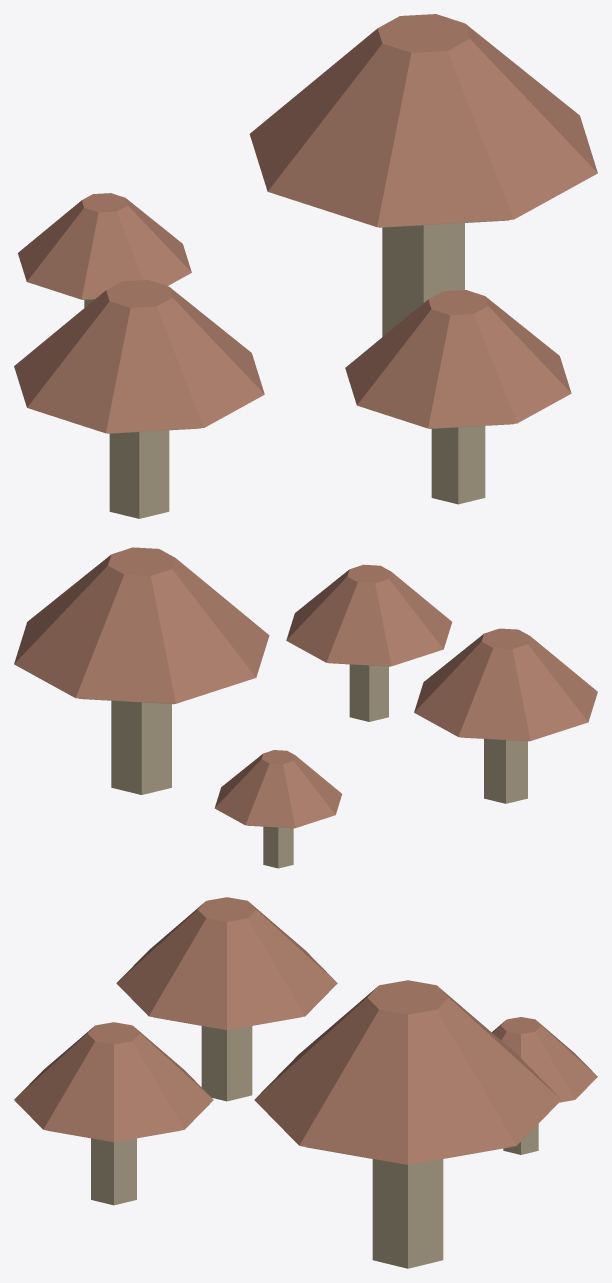
The model's file is Decor_Mushrooms.fbx.
3 renders of one model, top to bottom at view 1: azimuth 30°, elevation 25°; view 2: azimuth 150°, elevation 25°; view 3: azimuth 270°, elevation 25°, orthographic. The views are drawn at different scales.
Parts seen in each view (by area): view 1: Decor_Mushrooms; view 2: Decor_Mushrooms; view 3: Decor_Mushrooms.
Boxes of the visible parts, <box> form: Decor_Mushrooms: <box>14,14,597,518</box>; Decor_Mushrooms: <box>14,547,597,868</box>; Decor_Mushrooms: <box>14,897,597,1268</box>.
Size of the model in its own units: 1.43 by 0.62 by 1.29.
